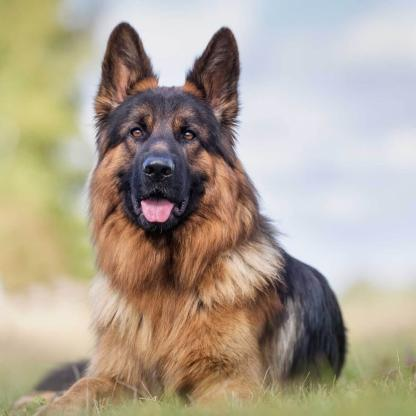dog: (74, 25, 343, 408)
